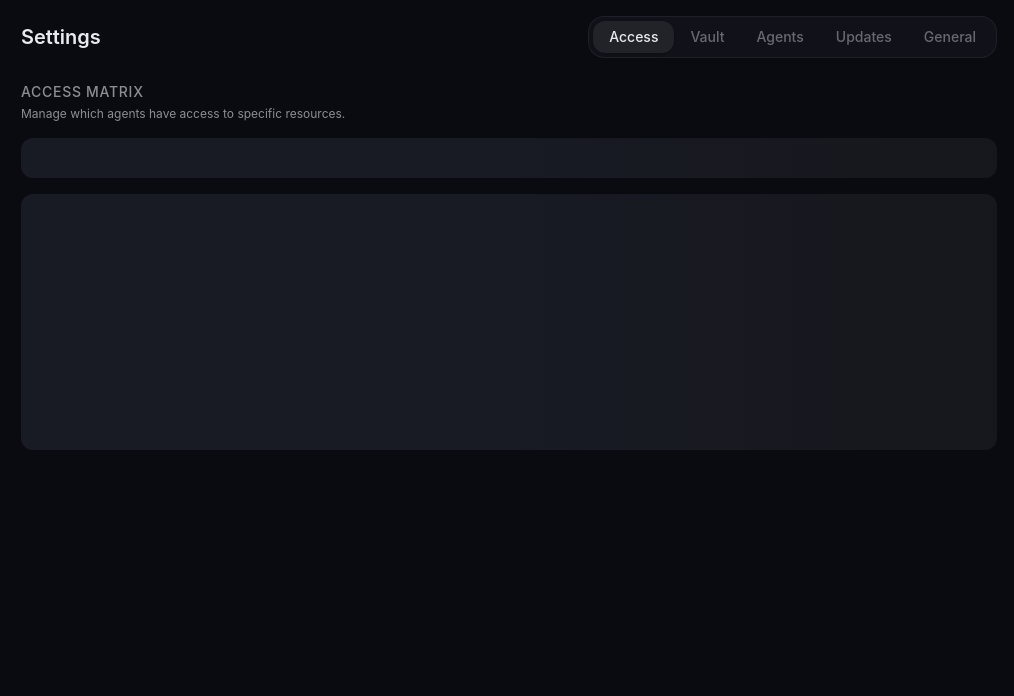
Test case: SettingsPanel — Density selector › renders the Density radiogroup with all three options under General
What coordinates should you click on to do the following:
click the button "General"
I would click on:
 (950, 37)
Its box is [908,21,992,53].
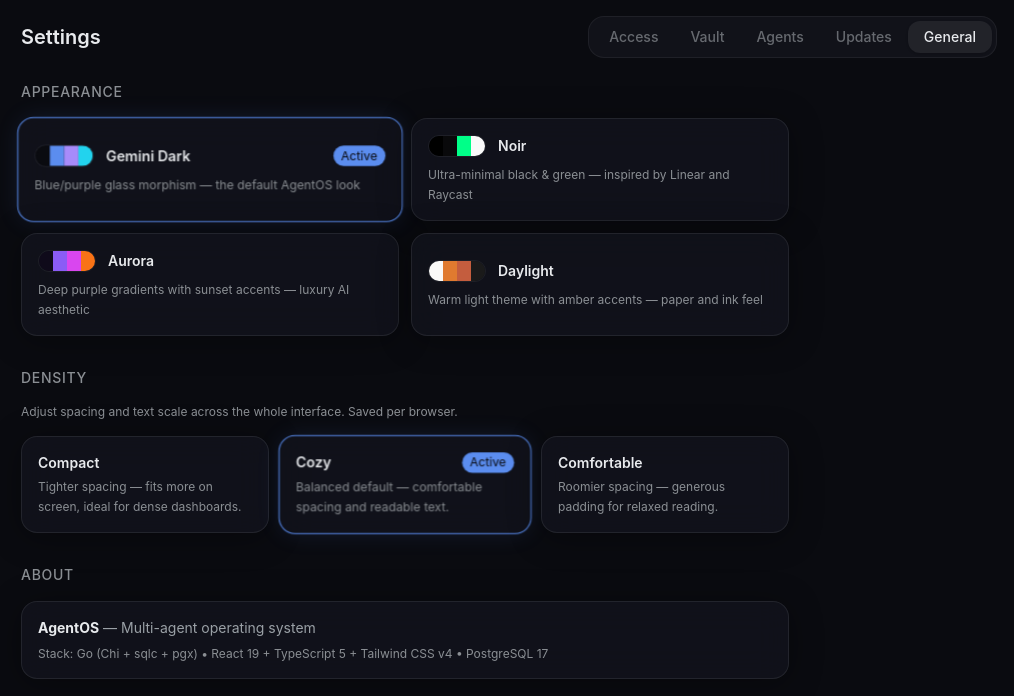
Check: the number of radio buttons is 3, box [21,436,269,533]; [278,435,532,534]; [541,436,789,533]
